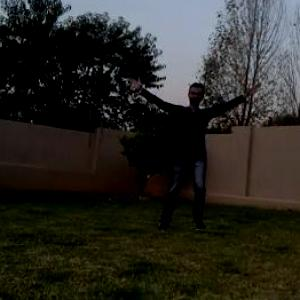takeoff: (122, 68, 248, 234)
